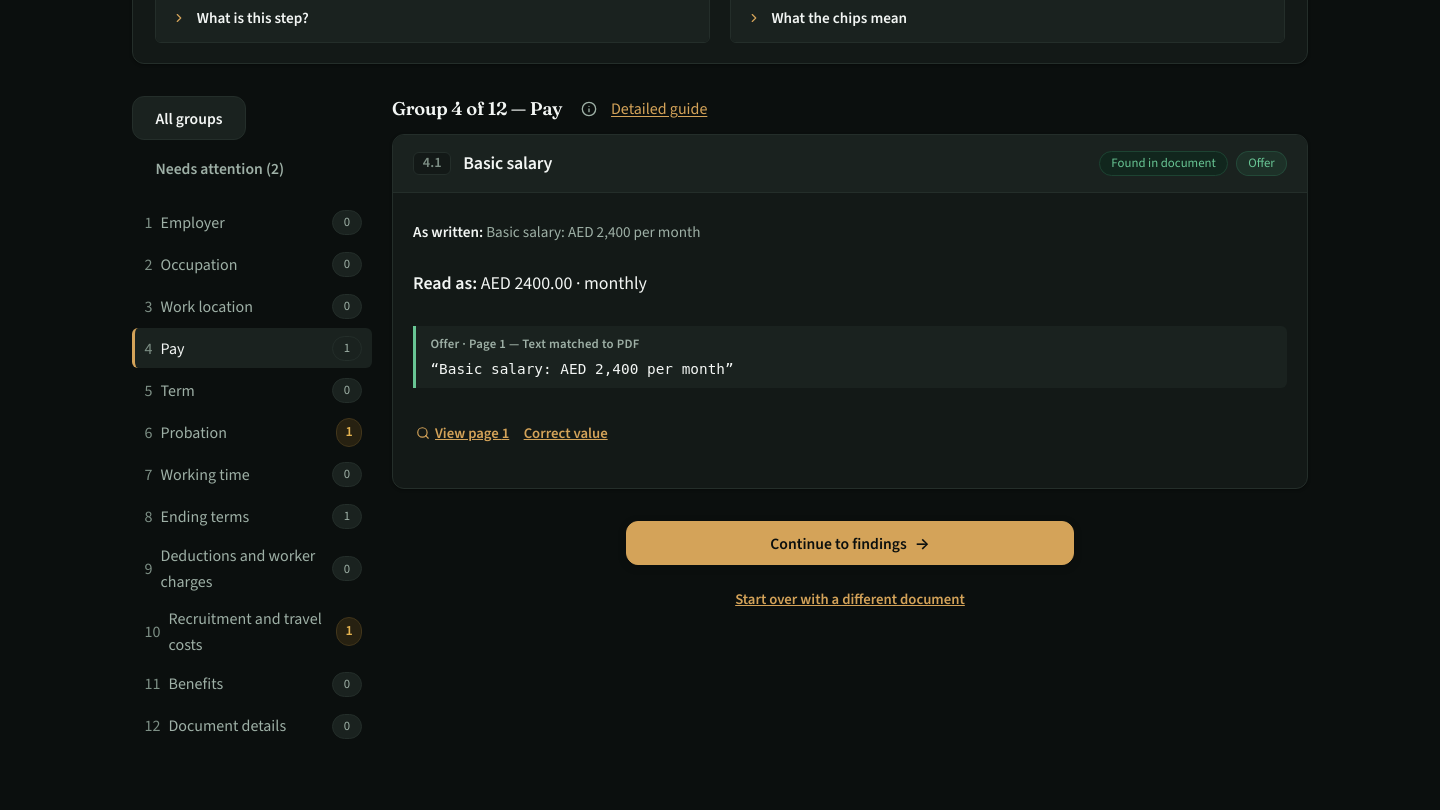
it: Review count semantics and card states (R22, issues 7/9/28) › unreadable fields show the public limitation and no Correct value control
The width and height of the screenshot is (1440, 810).
(page scrolled)
Click the button "10 Recruitment and travel costs 1" at {"x": 252, "y": 632}, box [132,601,372,662]
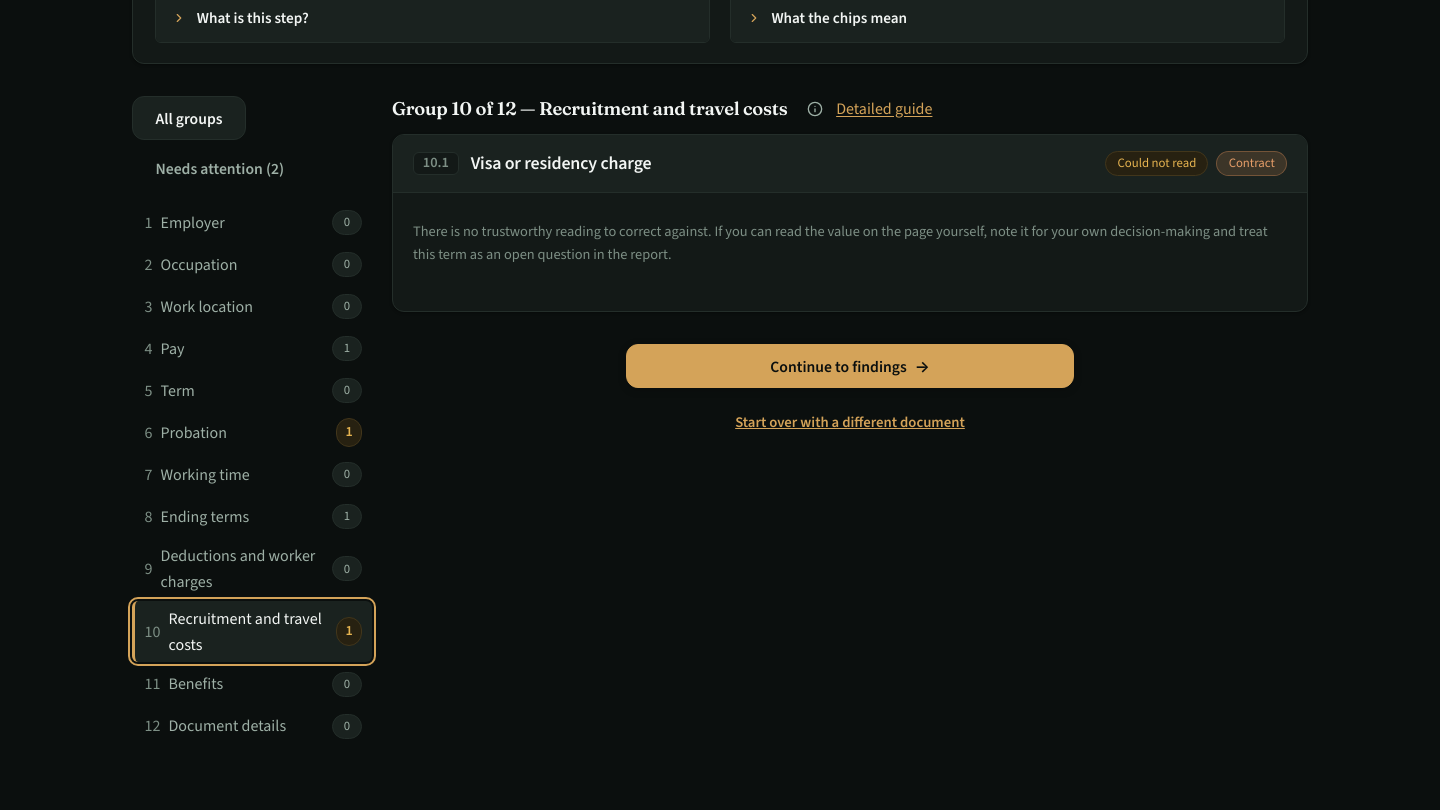
Now the text "no trustworthy reading to correct against" is shown, box [413,222,1268,264]
Now the button "Correct value" is gone
